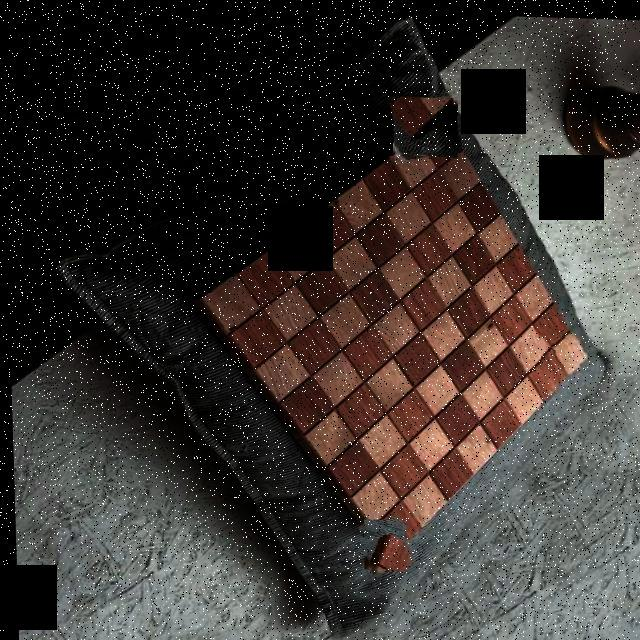chess-table-corners: (391, 93, 460, 157), (538, 328, 594, 390), (183, 274, 234, 328), (358, 515, 407, 570)
